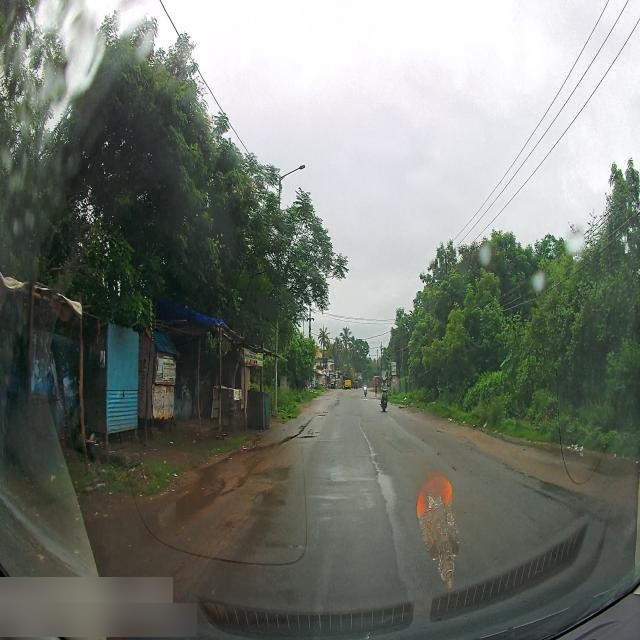pothole: (282, 422, 331, 444)
